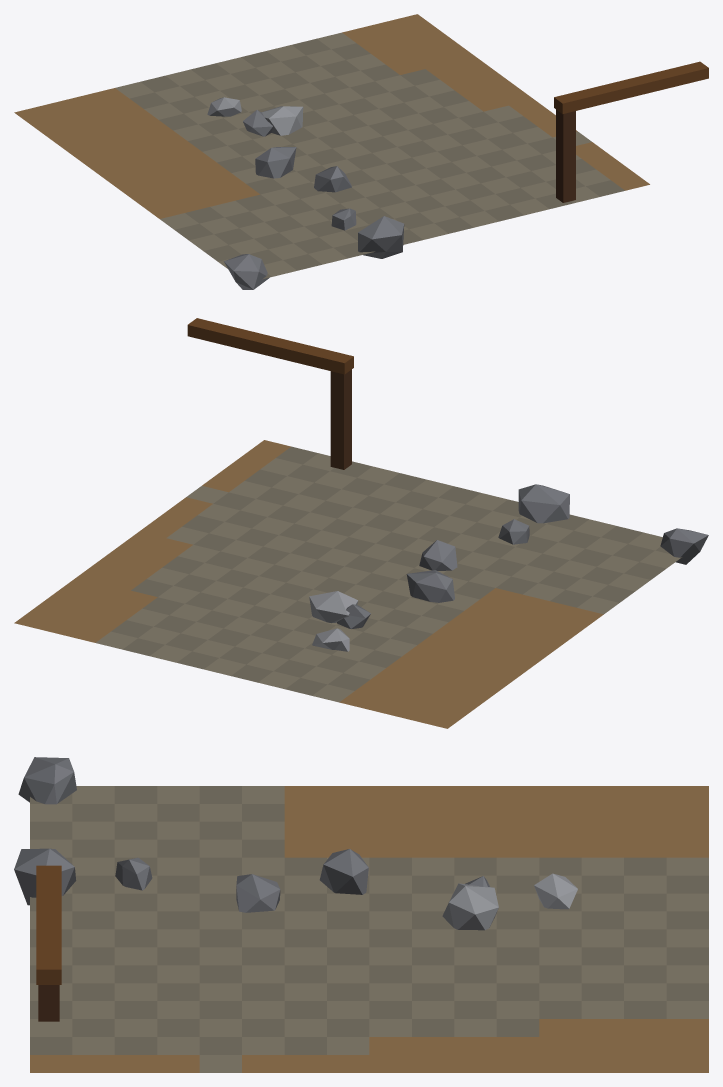
Rendered from chunk_5_17.glb.
The picture shows the model from 3 angles, top to bottom: view 1: azimuth 30°, elevation 25°; view 2: azimuth 150°, elevation 25°; view 3: azimuth 270°, elevation 25°; orthographic projection. The views are drawn at different scales.
Parts seen in each view (by area): view 1: chunk_5_17; view 2: chunk_5_17; view 3: chunk_5_17.
Part boxes in pixels (box(x1,y1,x2,y2)): chunk_5_17: box(14, 14, 708, 289); chunk_5_17: box(14, 318, 708, 728); chunk_5_17: box(14, 757, 708, 1072).
Bounding box in the file's own units: 18.87 × 4.42 × 16.38.
